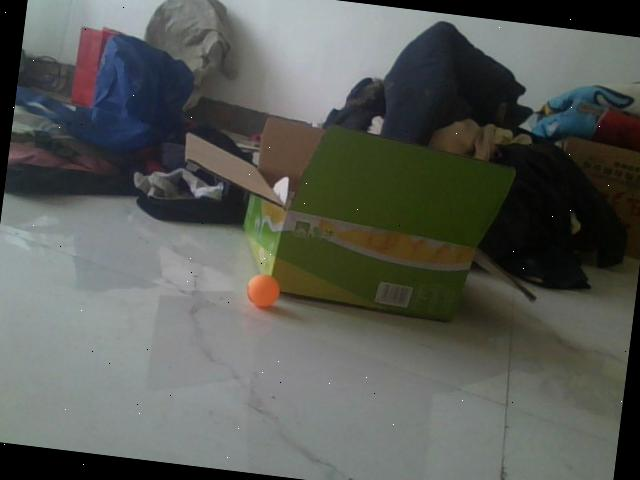ball: (244, 275, 280, 310)
